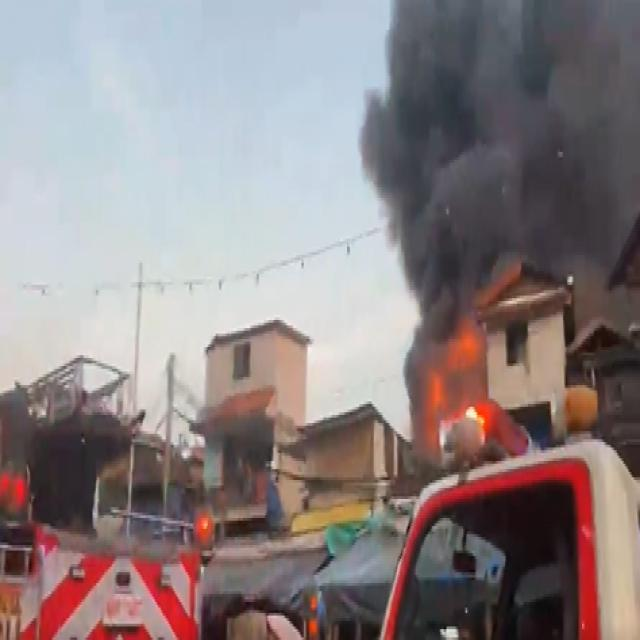Fire: (433, 309, 480, 405)
Smoke: (393, 8, 640, 225), (408, 222, 482, 407), (572, 210, 613, 318)
